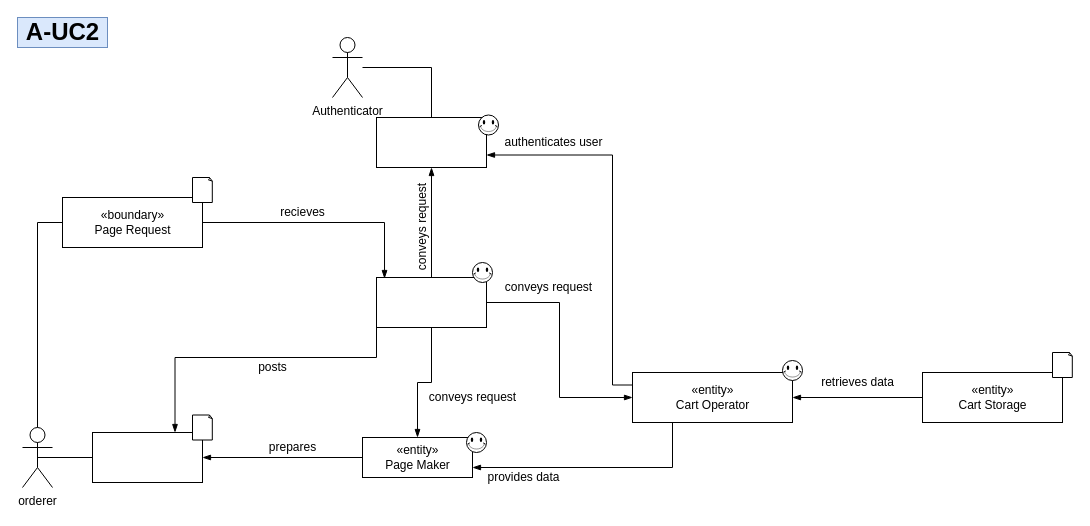
The diagram is 1090 pixels wide and 526 high, and some of its shapes have lost their labels. The centre of each missing label's shape, as x and y in pixels:
"«boundary» Interface Page" belongs at pixel 147 457.
"«boundary» LoginChecker" belongs at pixel 431 142.
"«controller» Controller" belongs at pixel 431 302.
